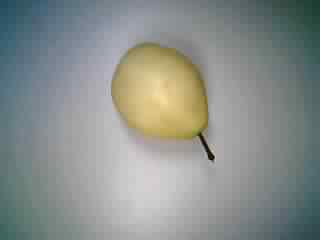pear: (102, 35, 232, 171)
